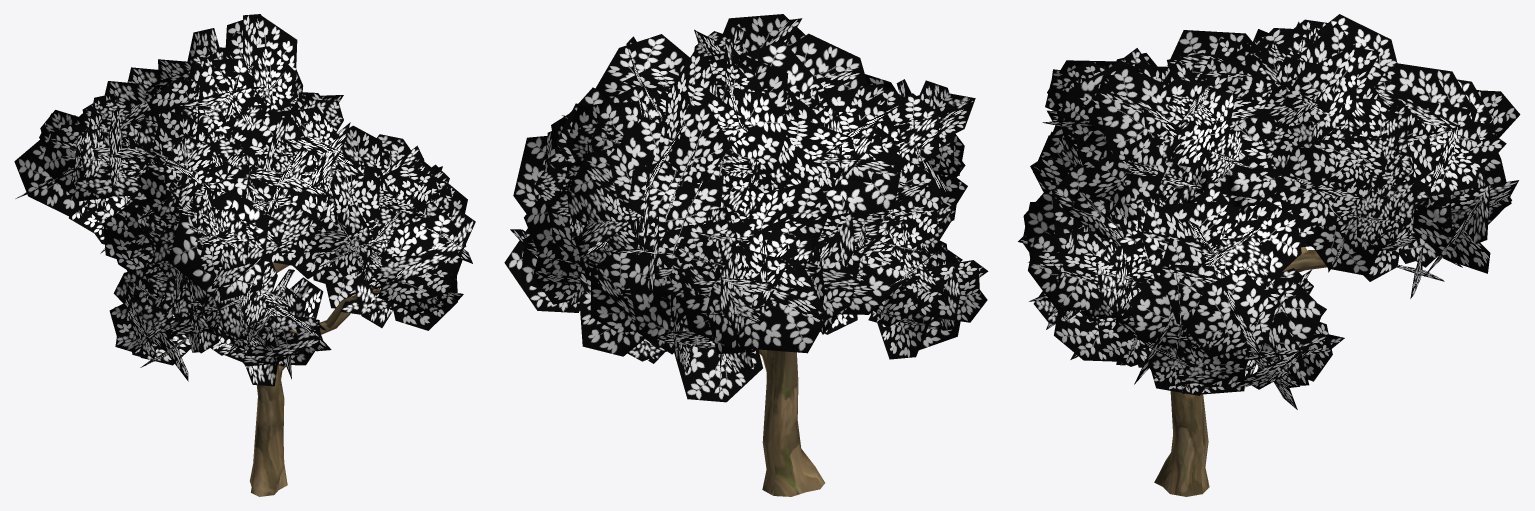
File: P_OakTree1_Snow.obj
3 views of the same model, side by side, from view 1: azimuth 30°, elevation 25°; view 2: azimuth 150°, elevation 25°; view 3: azimuth 270°, elevation 25° (orthographic). The views are drawn at different scales.
Bounding box in the file's own units: 13.22 × 14.88 × 13.94.
